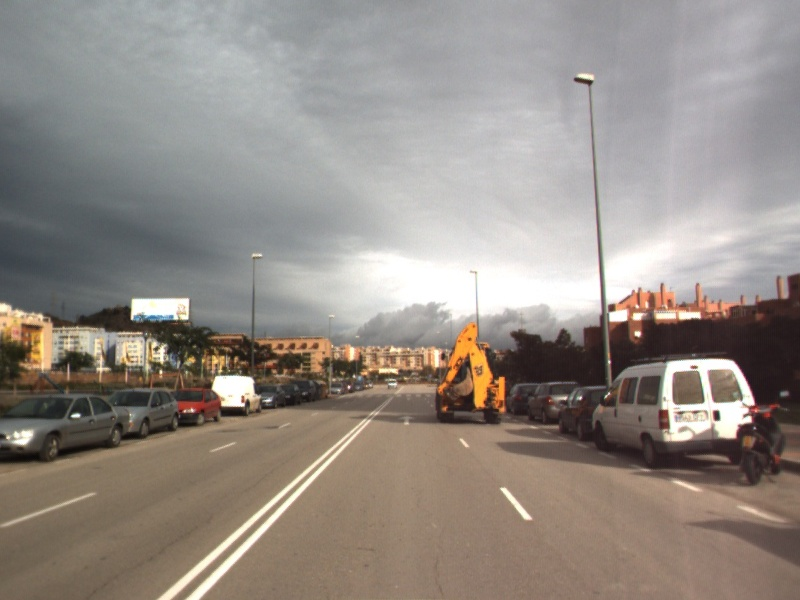STRAIGHT: (397, 413, 418, 426)
